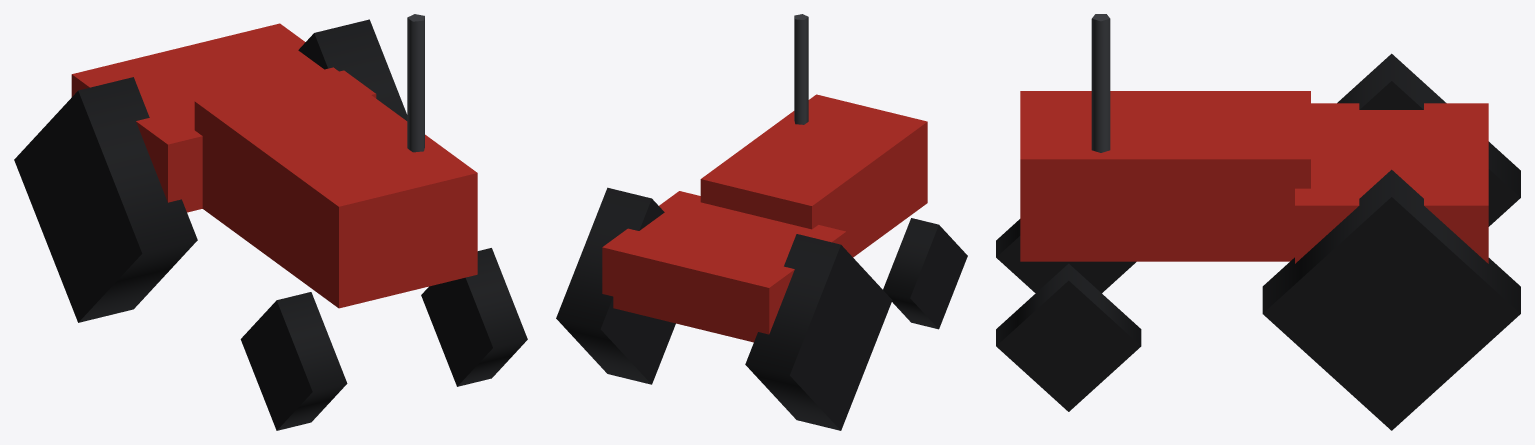
The model's file is veh_ground_tractor_a05_lod2.glb.
The picture shows the model from 3 angles, left to right: view 1: azimuth 30°, elevation 25°; view 2: azimuth 150°, elevation 25°; view 3: azimuth 270°, elevation 25°; orthographic projection. The views are drawn at different scales.
Parts seen in each view (by area): view 1: body, wheel_0, front_wheel_0, front_wheel_1, wheel_1; view 2: body, wheel_0, wheel_1, front_wheel_0; view 3: body, wheel_1, front_wheel_1, wheel_0, front_wheel_0.
Part boxes in pixels (x1,y1,x2,y2): body: (71,14,477,308); wheel_0: (14,77,197,322); front_wheel_0: (240,292,347,430); front_wheel_1: (421,248,527,386); wheel_1: (298,19,407,120); body: (602,14,927,342); wheel_0: (745,234,892,430); wheel_1: (556,187,675,384); front_wheel_0: (883,218,967,329); body: (1020,14,1488,263); wheel_1: (1262,169,1520,430); front_wheel_1: (996,263,1141,411); wheel_0: (1337,53,1520,226); front_wheel_0: (996,219,1136,293).
Bounding box in the file's own units: 2.1 × 2.5 × 3.25.
